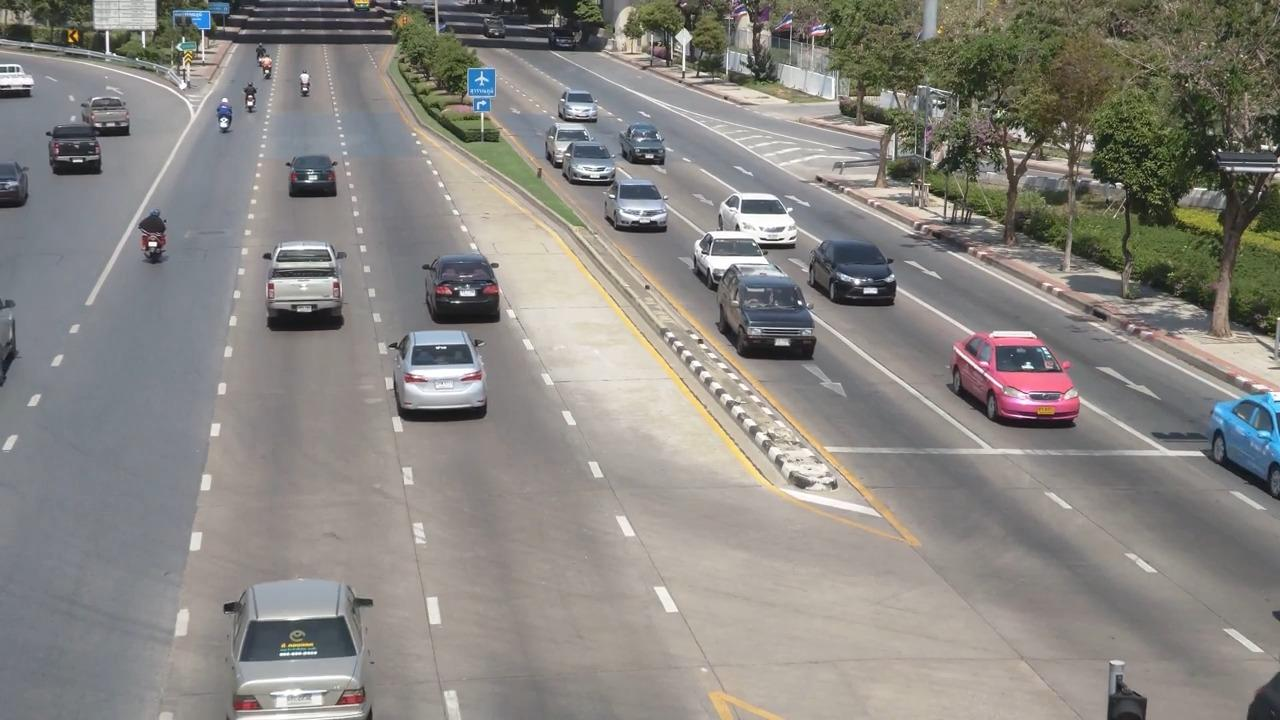CAR: (216, 563, 384, 720), (935, 317, 1099, 437), (392, 325, 496, 431), (1185, 377, 1280, 489), (256, 227, 350, 333), (723, 271, 813, 377), (815, 233, 906, 314), (423, 252, 514, 328), (686, 226, 779, 288), (722, 187, 803, 252), (599, 173, 682, 236), (40, 116, 107, 174), (287, 152, 347, 194), (82, 90, 135, 136), (0, 147, 27, 230), (0, 56, 39, 110), (567, 145, 619, 185), (619, 119, 666, 160), (542, 125, 596, 156), (559, 85, 597, 119)
MOTOR: (130, 205, 184, 266), (250, 35, 280, 75), (233, 76, 263, 111), (209, 93, 238, 129), (295, 63, 313, 98)
